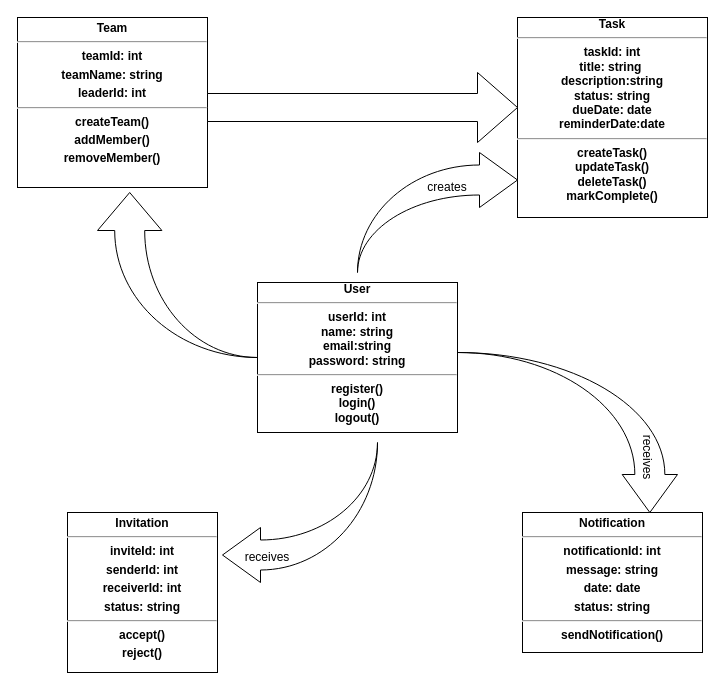
Image size: 725x690. Some labels were removed from this diagram. The centre of each missing label's shape, as x and y in pixels:
joins: the point at 177,275
manages: the point at 362,107
